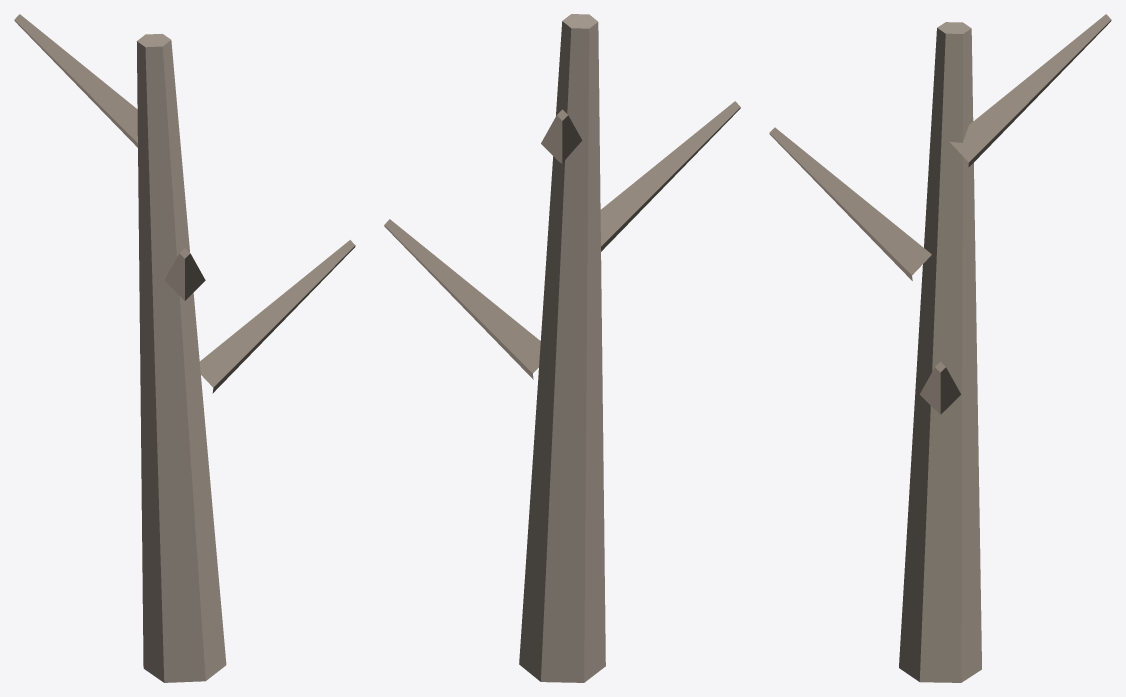
The model's file is deadtree_v36.glb.
3 renders of one model, left to right at view 1: azimuth 30°, elevation 25°; view 2: azimuth 150°, elevation 25°; view 3: azimuth 270°, elevation 25°, orthographic. The views are drawn at different scales.
Parts seen in each view (by area): view 1: lod0; view 2: lod0; view 3: lod0.
Part boxes in pixels (x1,y1,x2,y2): lod0: [14, 14, 355, 682]; lod0: [384, 14, 740, 682]; lod0: [769, 14, 1111, 682].
Size of what is drawn, in the model's own units: 1.38 by 3.21 by 1.58.
